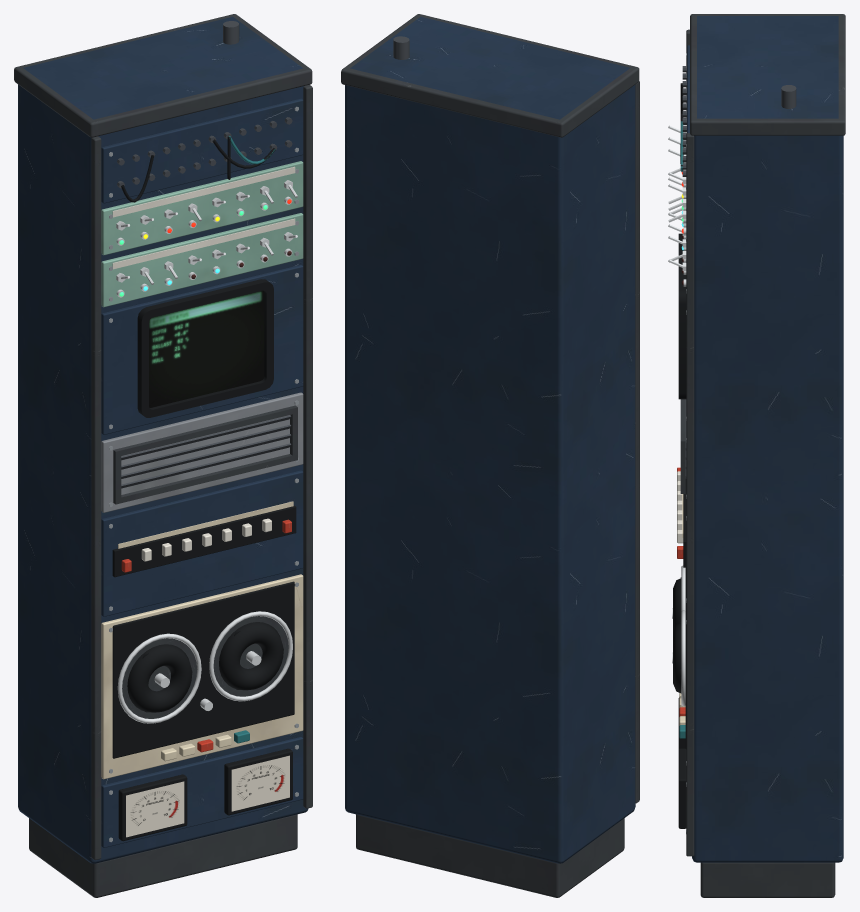
Rendered from Rack_60_3.glb.
3 views of the same model, side by side, from view 1: azimuth 30°, elevation 25°; view 2: azimuth 150°, elevation 25°; view 3: azimuth 270°, elevation 25° (orthographic).
Parts seen in each view (by area): view 1: Rack_60_3_Body; view 2: Rack_60_3_Body; view 3: Rack_60_3_Body.
Boxes of the visible parts, x1,y1,x2,y2 form: Rack_60_3_Body: (14, 14, 312, 897); Rack_60_3_Body: (341, 14, 639, 897); Rack_60_3_Body: (668, 14, 845, 897).
Size of the model in its own units: 0.61 by 2.1 by 0.4216.
20 materials, 10 textured.
